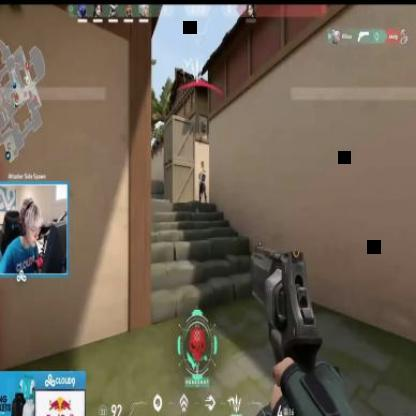enemy: (198, 158, 206, 202)
enemy_head: (200, 160, 204, 170)
